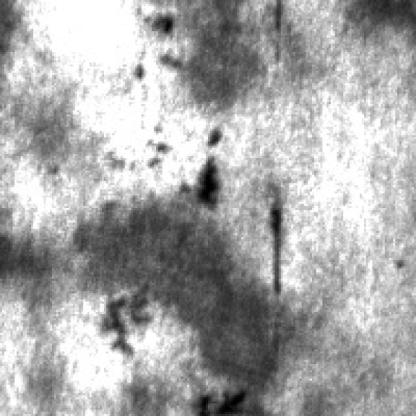inclusion: (172, 127, 226, 204), (262, 192, 283, 298), (189, 383, 250, 414)
patches: (69, 197, 283, 384), (183, 0, 260, 104), (0, 200, 56, 314), (333, 0, 414, 42)
